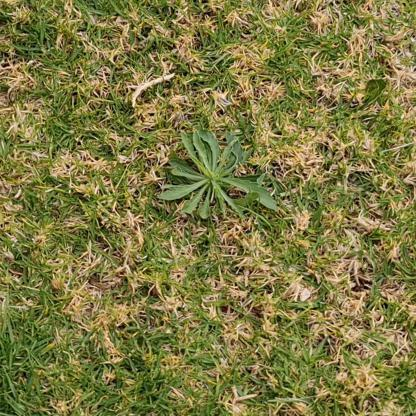Weeds: (157, 129, 279, 219)
